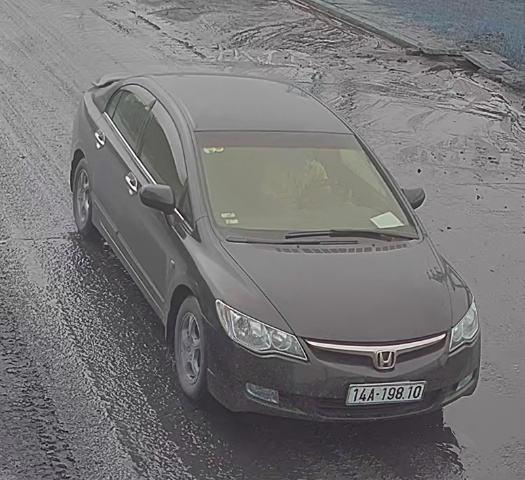vehicle plate: (343, 376, 428, 405)
